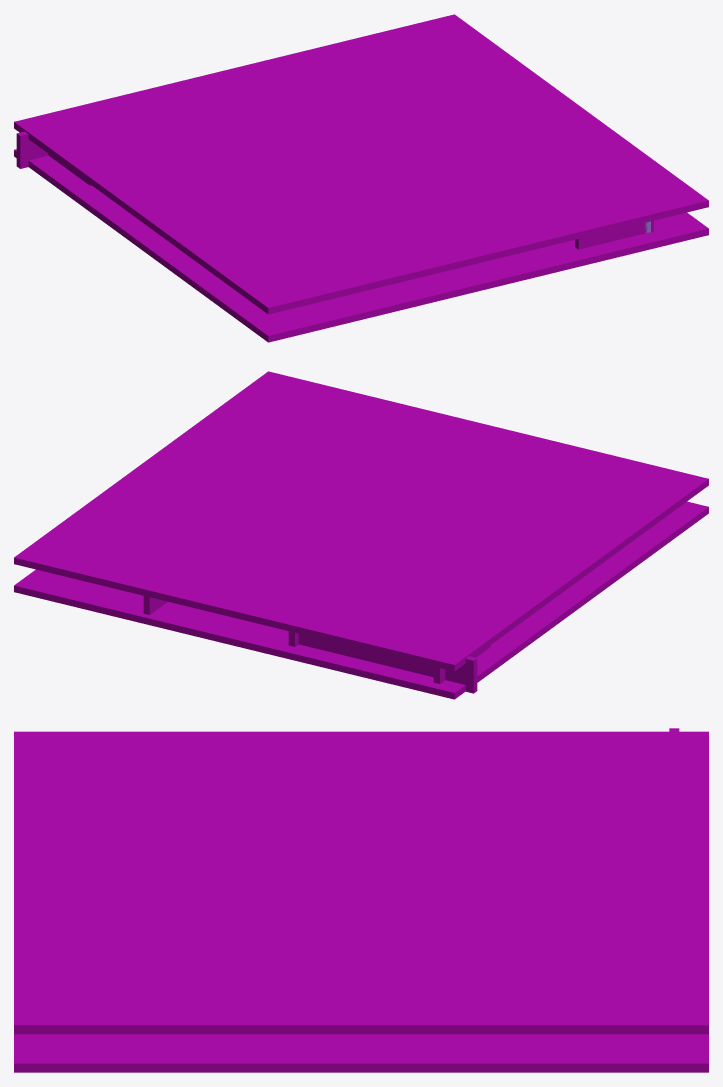
The model's file is rave_remesh_attempt_b.glb.
3 renders of one model, top to bottom at view 1: azimuth 30°, elevation 25°; view 2: azimuth 150°, elevation 25°; view 3: azimuth 270°, elevation 25°, orthographic. The views are drawn at different scales.
Parts seen in each view (by area): view 1: MeshInstance3D2, MeshInstance3D, MeshInstance3D3; view 2: MeshInstance3D2, MeshInstance3D, MeshInstance3D3; view 3: MeshInstance3D2, MeshInstance3D.
Part boxes in pixels (x1,y1,x2,y2): MeshInstance3D2: (14,14,708,314); MeshInstance3D: (14,149,708,342); MeshInstance3D3: (16,131,653,249); MeshInstance3D2: (14,371,708,671); MeshInstance3D: (14,501,708,699); MeshInstance3D3: (143,596,490,693); MeshInstance3D2: (14,731,708,1034); MeshInstance3D: (14,1034,708,1072).
Size of the model in its own units: 71.3 by 5.25 by 70.
